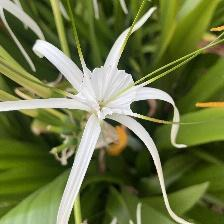spider lily: (1, 7, 191, 224)
